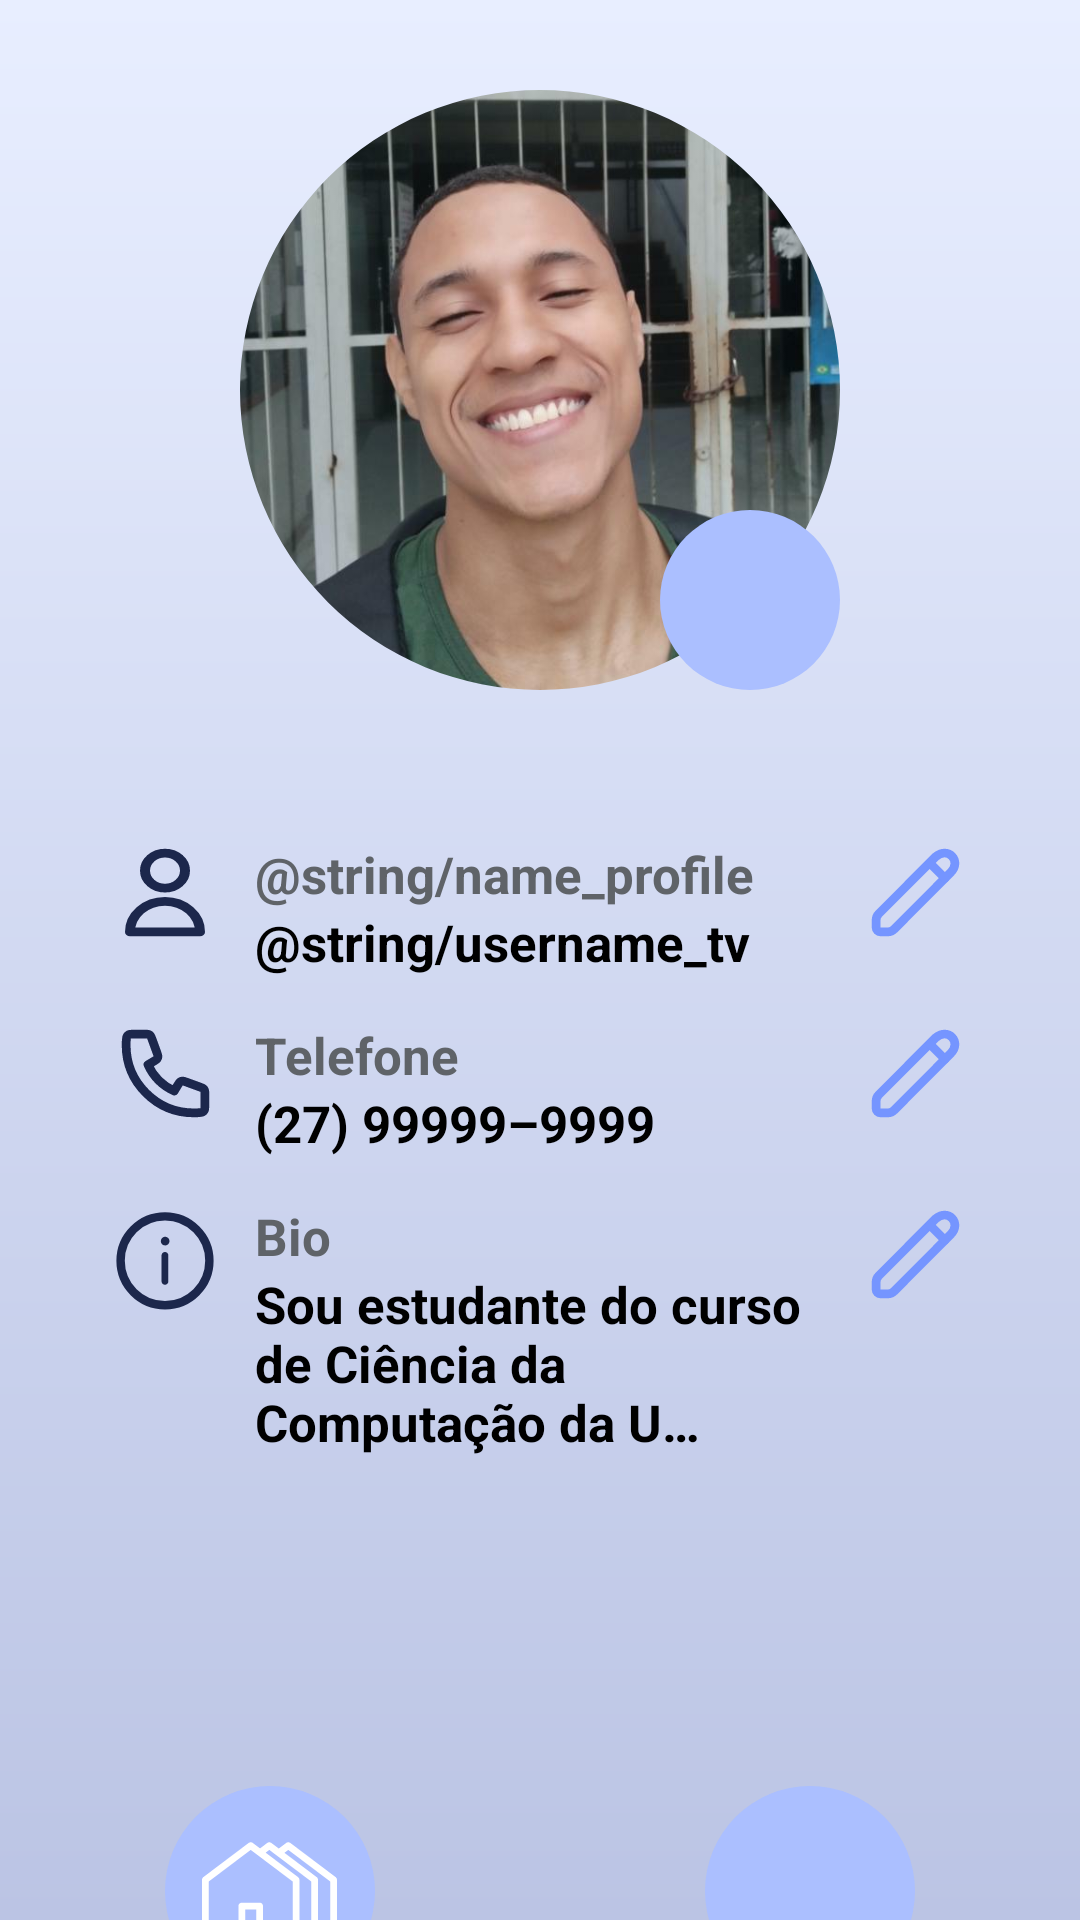

Icon bounding boxes for this 1080px x 1920px phone screenshot, format detection(x1, y1, x2, y2):
pencil: detection(871, 849, 959, 937), detection(872, 1030, 959, 1117), detection(872, 1211, 959, 1298)
Ícone de informação: detection(116, 1212, 214, 1310)
